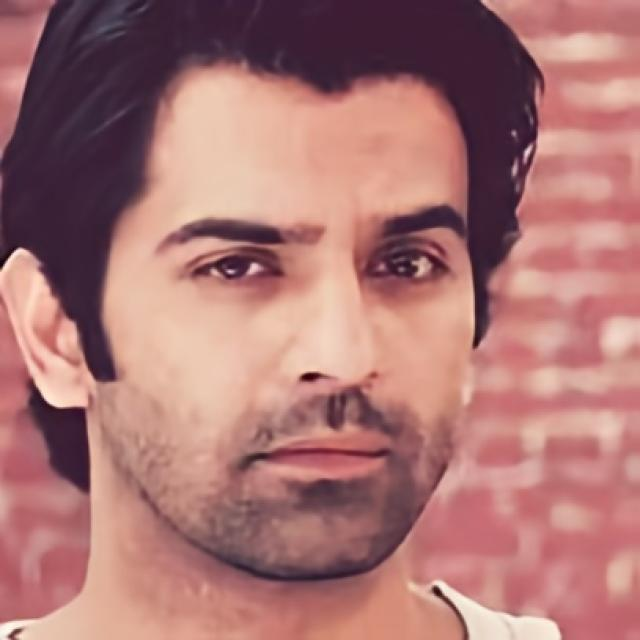anger: (111, 42, 474, 578)
